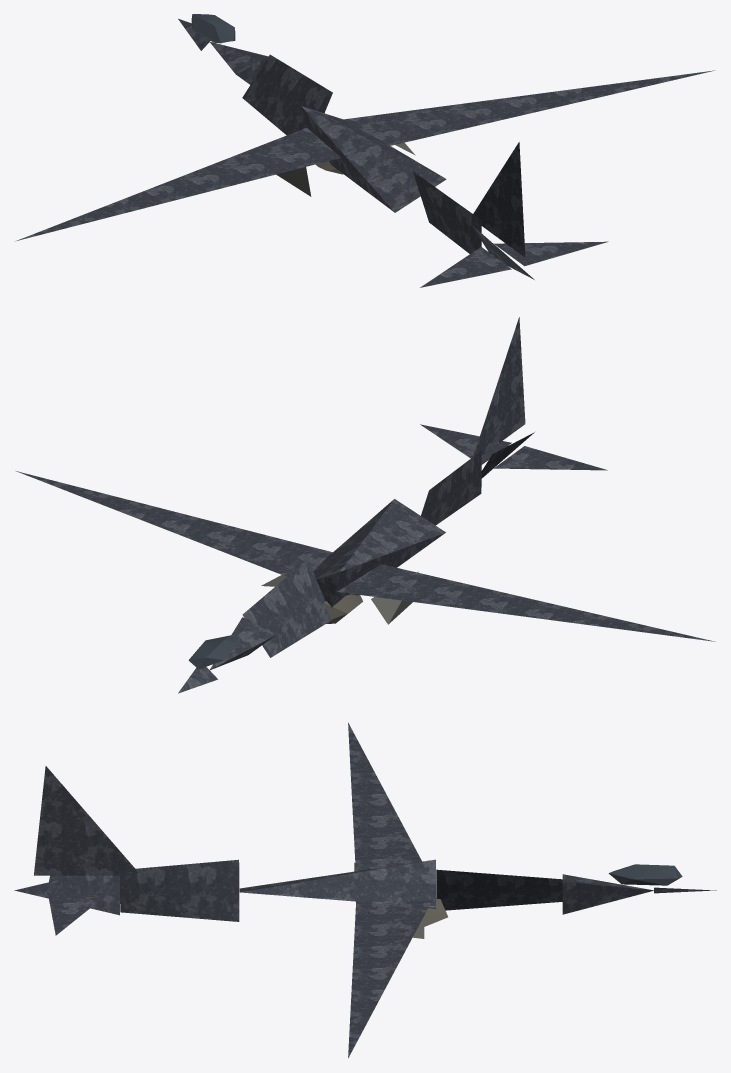
Rendered from isr_e1_us_recon_LOD2.glb.
The picture shows the model from 3 angles, top to bottom: view 1: azimuth 30°, elevation 25°; view 2: azimuth 150°, elevation 25°; view 3: azimuth 270°, elevation 25°; orthographic projection.
Visible parts, largest first — view 1: isr_e1_us_recon_LOD2_body, isr_e1_us_recon_LOD2_glass, isr_e1_us_recon_LOD2_gun; view 2: isr_e1_us_recon_LOD2_body, isr_e1_us_recon_LOD2_glass, isr_e1_us_recon_LOD2_gun, isr_e1_us_recon_LOD2_deck; view 3: isr_e1_us_recon_LOD2_body, isr_e1_us_recon_LOD2_glass.
Boxes of the visible parts, box(x1,y1,x2,y2) form: isr_e1_us_recon_LOD2_body: box(15, 18, 715, 287); isr_e1_us_recon_LOD2_glass: box(191, 14, 235, 43); isr_e1_us_recon_LOD2_gun: box(276, 142, 415, 196); isr_e1_us_recon_LOD2_body: box(16, 317, 715, 693); isr_e1_us_recon_LOD2_glass: box(188, 635, 238, 669); isr_e1_us_recon_LOD2_gun: box(261, 571, 418, 624); isr_e1_us_recon_LOD2_deck: box(324, 594, 362, 623); isr_e1_us_recon_LOD2_body: box(14, 722, 716, 1058); isr_e1_us_recon_LOD2_glass: box(608, 864, 682, 885).
Size of the model in its own units: 34.08 by 7.66 by 30.05.
4 materials, 1 textured.
